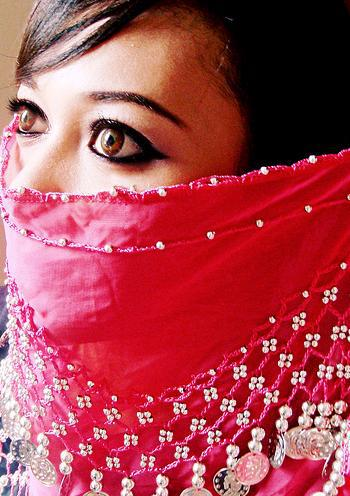WRONG: (8, 71, 240, 340)
